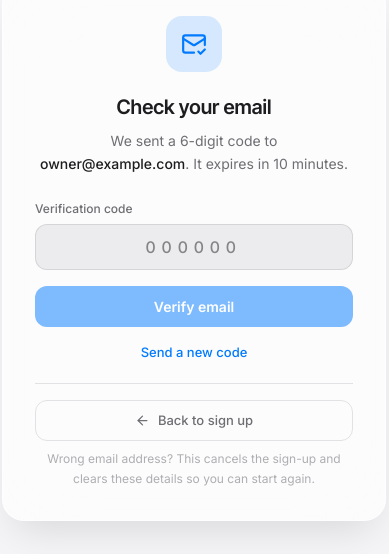
Test case: VerifyEmail › an expired sign-up session › swaps the form out when a resend comes back 410
Click the button "Send a new code".
click(194, 352)  # box x1=141 y1=342 x2=247 y2=362
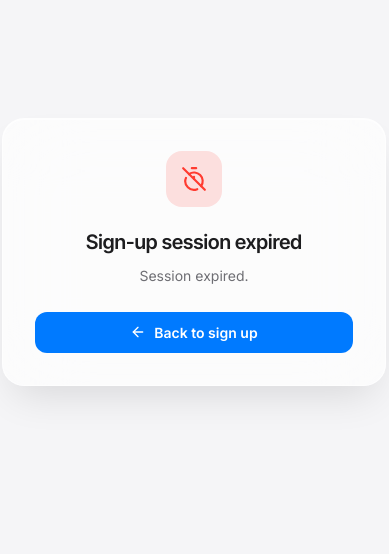
Now the message shows "expired", box x1=139 y1=267 x2=249 y2=284
